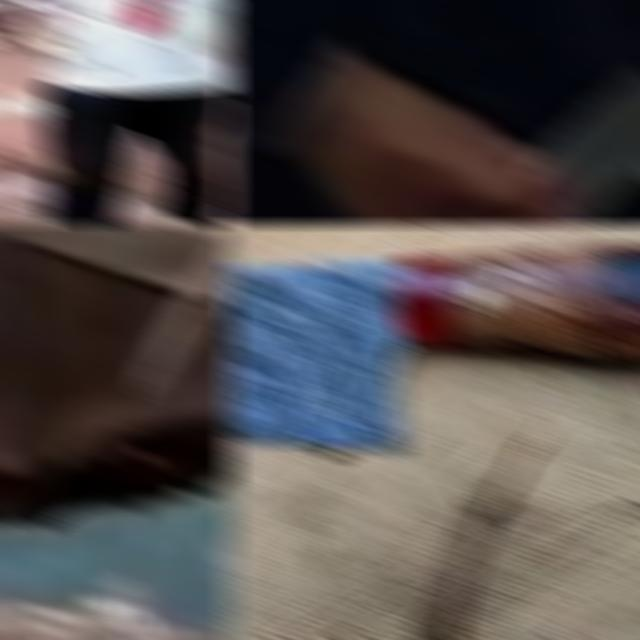Knife: (523, 0, 640, 226), (128, 222, 236, 399)
Knife_Handle: (320, 0, 640, 226)
